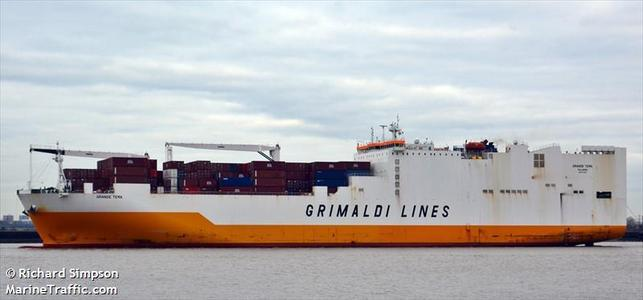Cargoship: (14, 111, 634, 250)
